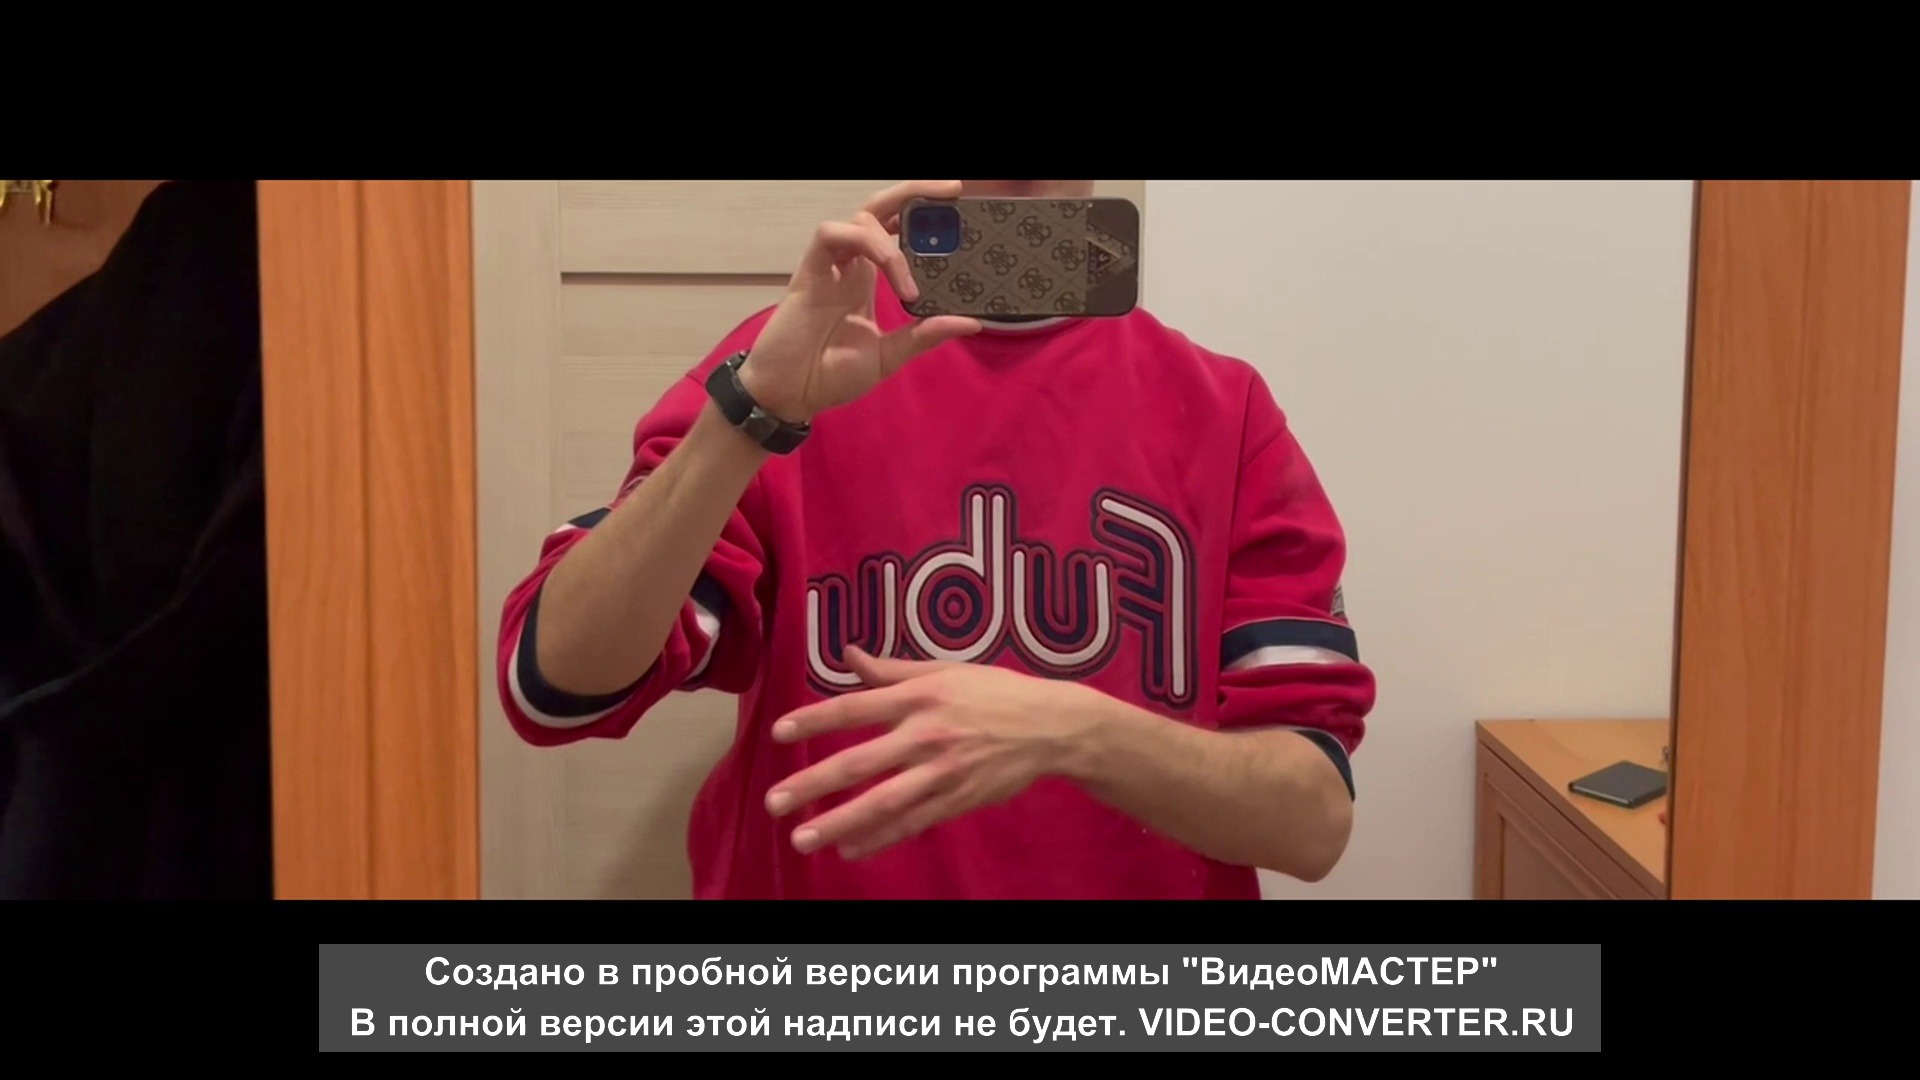Кисть: (762, 646, 1065, 856)
